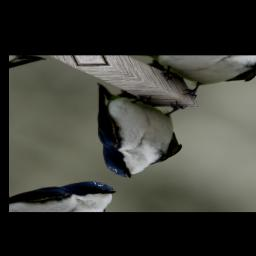Swallow: (39, 70, 215, 188)
